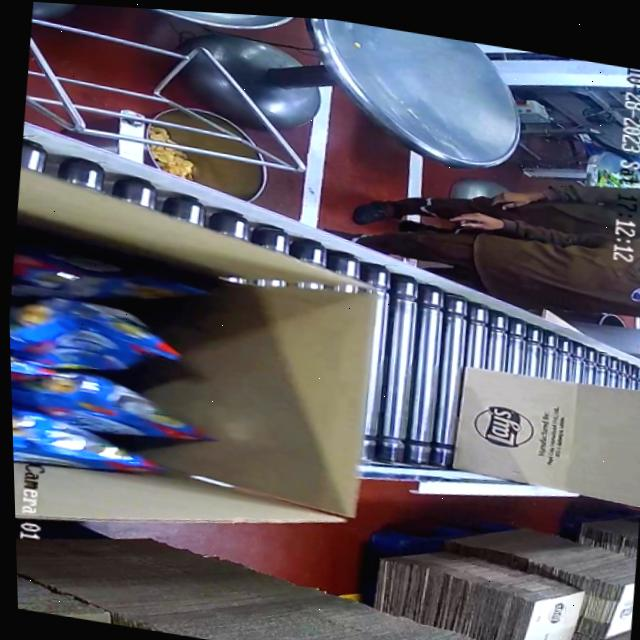PAPRIKA: (7, 246, 225, 497)
